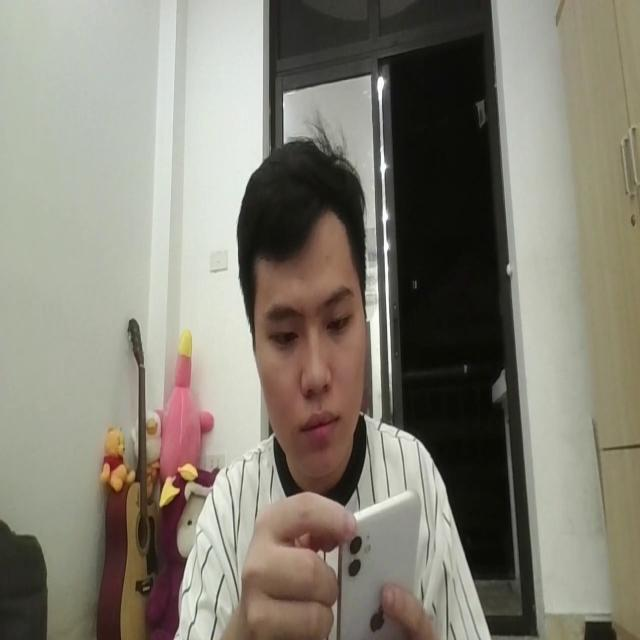phone: (336, 477, 420, 640)
student: (172, 126, 492, 640)
